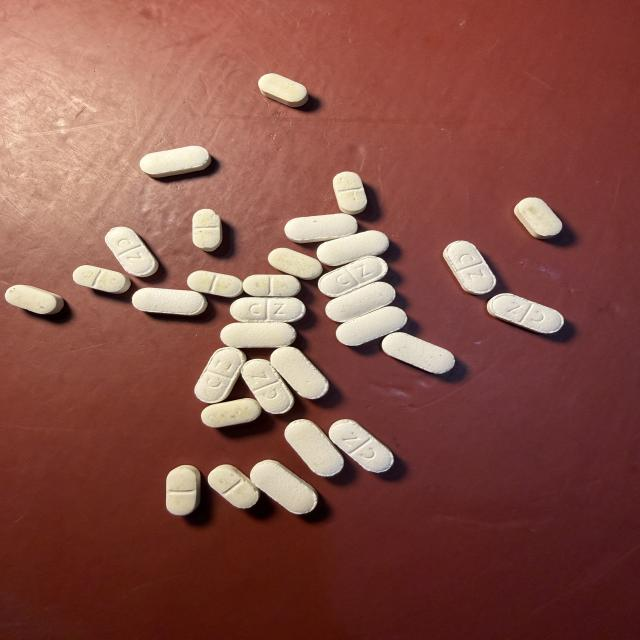pill: (251, 460, 317, 514), (329, 420, 393, 472), (285, 420, 343, 476), (271, 347, 329, 399), (382, 332, 455, 373), (487, 294, 563, 333), (242, 359, 294, 414), (195, 347, 246, 403), (443, 241, 496, 294), (336, 307, 407, 346), (318, 257, 387, 297), (326, 282, 395, 322), (105, 227, 158, 277), (317, 230, 388, 266), (140, 146, 211, 177), (208, 465, 259, 508), (285, 214, 357, 243), (132, 288, 207, 315), (515, 198, 562, 239), (221, 323, 296, 348), (230, 297, 305, 322), (5, 285, 64, 314), (166, 465, 200, 515), (201, 399, 261, 427), (268, 248, 322, 279), (258, 74, 308, 107), (73, 265, 130, 293), (187, 271, 242, 297), (333, 172, 366, 214), (243, 275, 301, 296), (193, 209, 222, 251)
